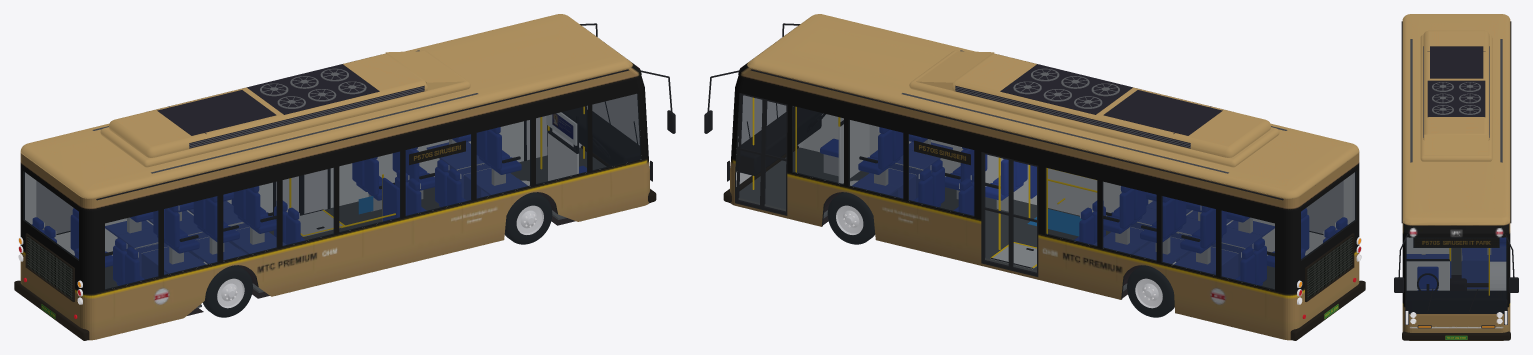
File: premium-gold-2026.glb
The picture shows the model from 3 angles, left to right: view 1: azimuth 30°, elevation 25°; view 2: azimuth 150°, elevation 25°; view 3: azimuth 270°, elevation 25°; orthographic projection. The views are drawn at different scales.
Visible parts, largest first — view 1: premium-gold-2026_Body, premium-gold-2026_Glass, premium-gold-2026_Wheel_Front_L; view 2: premium-gold-2026_Body, premium-gold-2026_Glass, premium-gold-2026_Wheel_Front_L; view 3: premium-gold-2026_Body, premium-gold-2026_Glass.
Boxes of the visible parts, x1,y1,x2,y2 form: premium-gold-2026_Body: (14,14,675,340); premium-gold-2026_Glass: (24,93,641,289); premium-gold-2026_Wheel_Front_L: (202,192,552,317); premium-gold-2026_Body: (704,14,1365,340); premium-gold-2026_Glass: (738,95,1355,289); premium-gold-2026_Wheel_Front_L: (827,192,1174,317); premium-gold-2026_Body: (1394,14,1518,340); premium-gold-2026_Glass: (1406,237,1506,313).
Bounding box in the file's own units: 12.41 × 3.58 × 2.95.
Materials: 11 (11 with a texture image).
